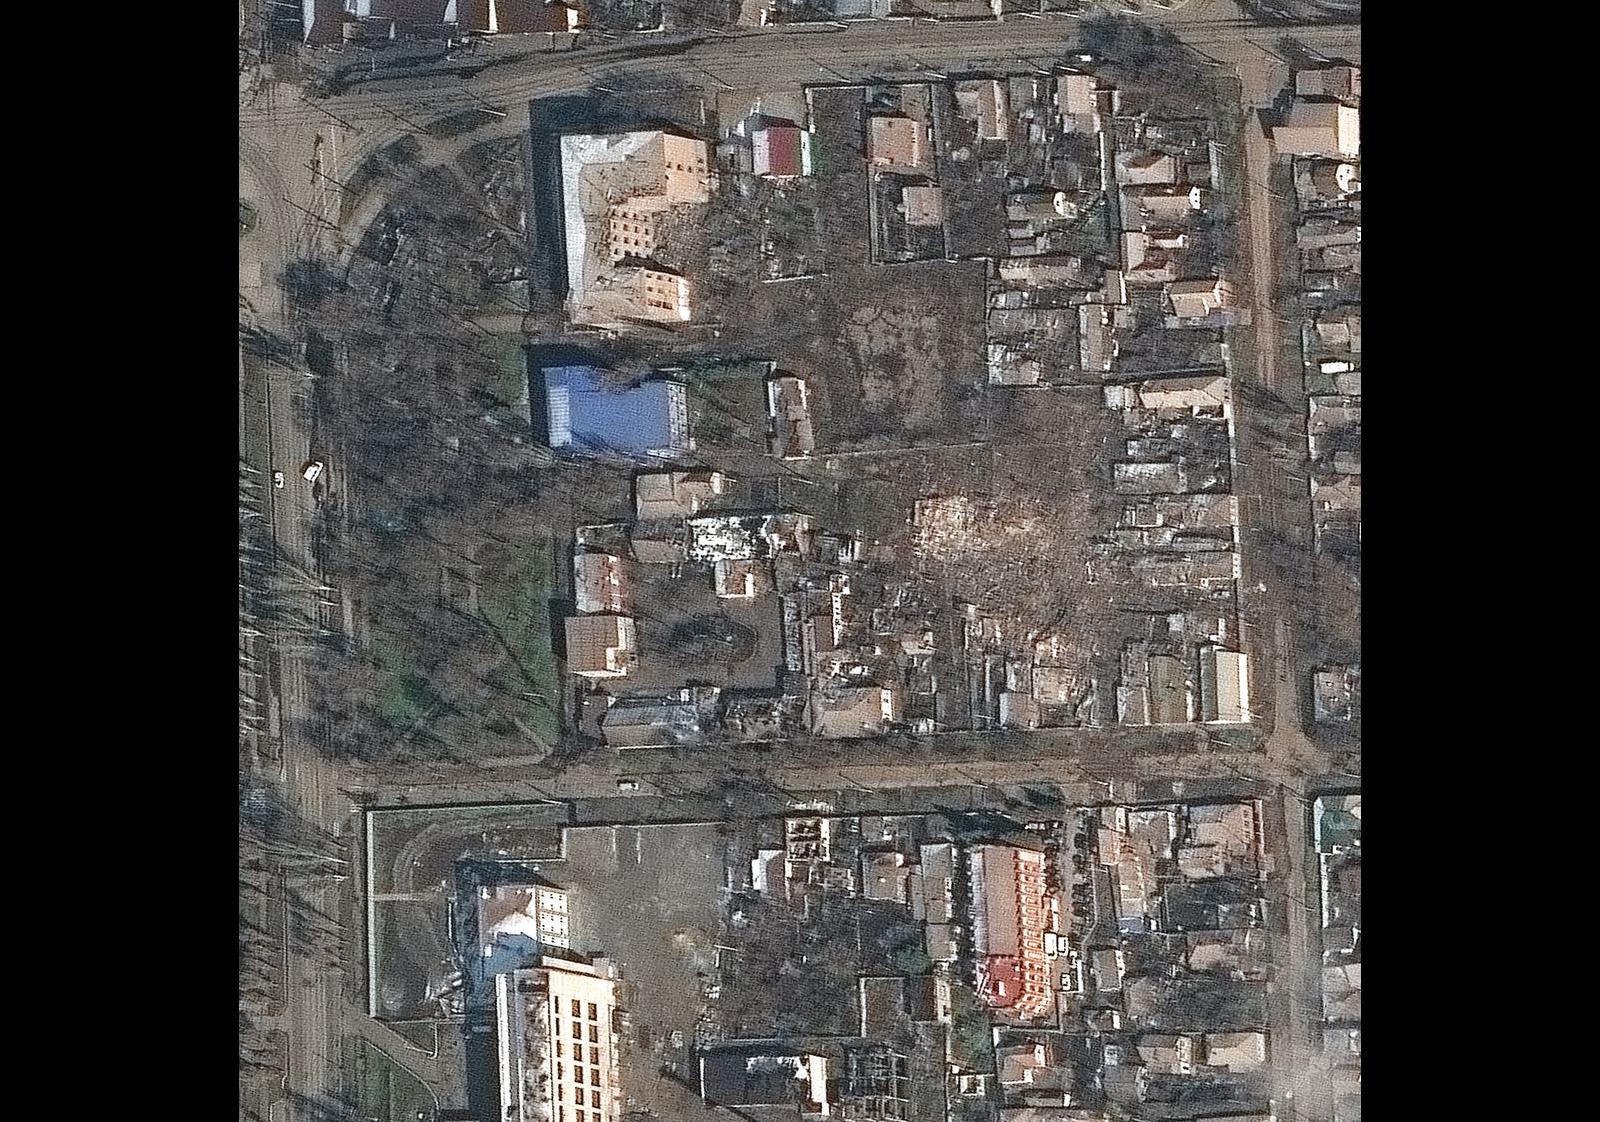demaged-building-low: (571, 133, 714, 312), (494, 945, 629, 1122), (695, 1048, 829, 1105)
